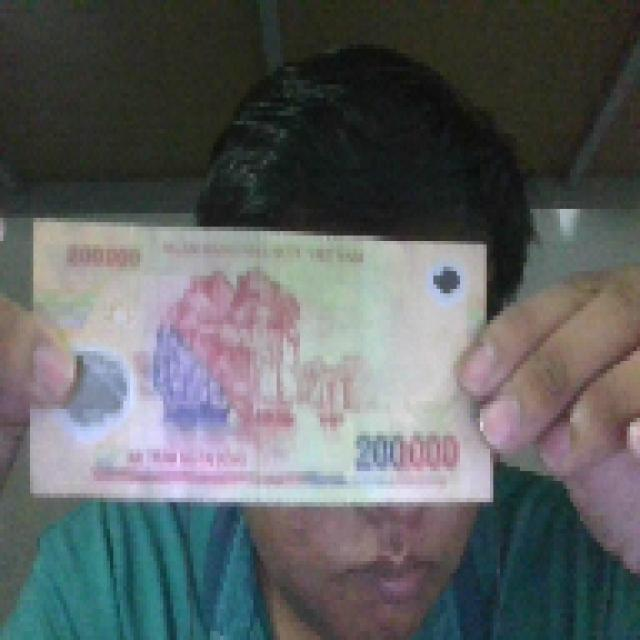200 000 VND: (20, 209, 497, 511)
